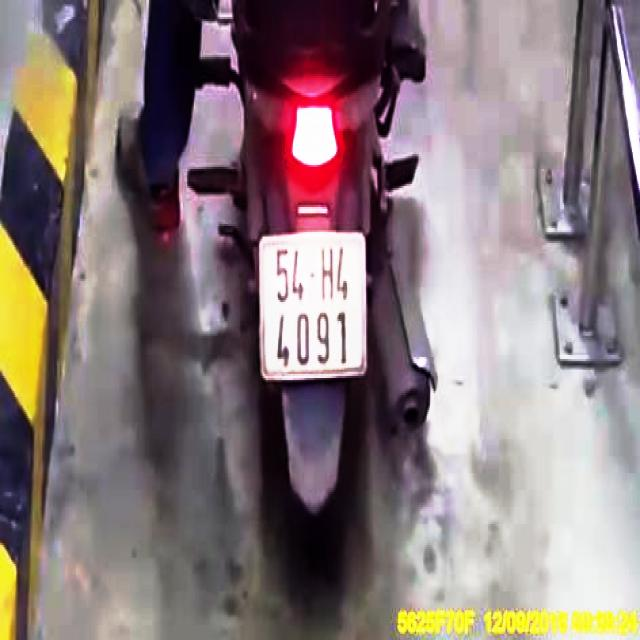license_plate: (263, 237, 366, 376)
